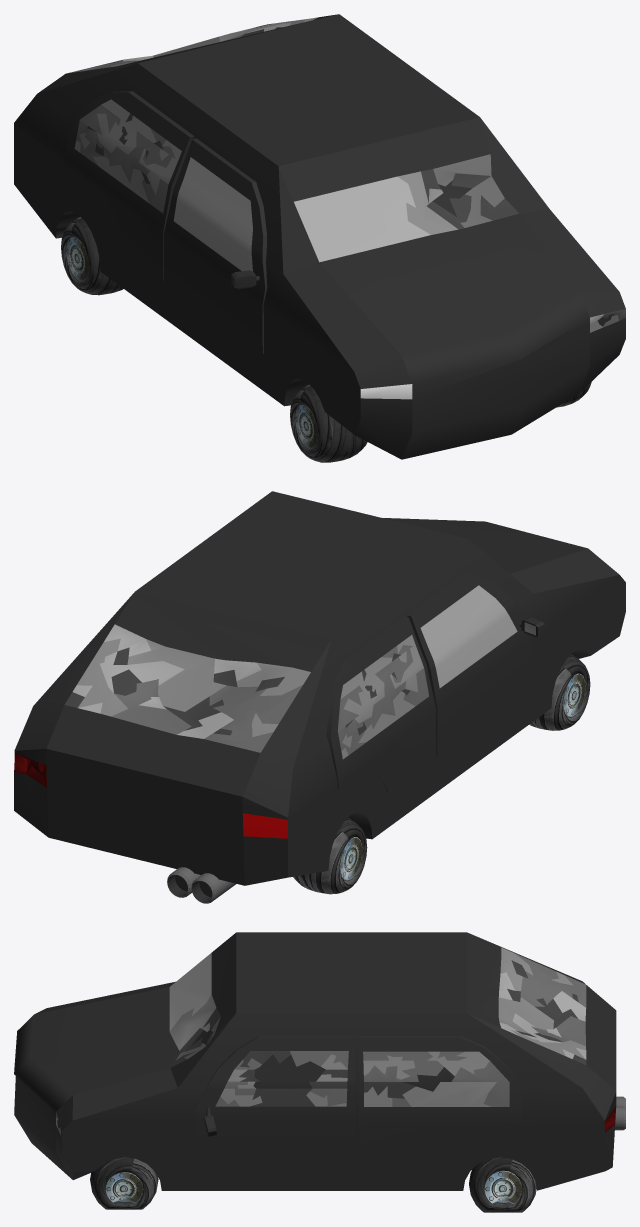
The model's file is smashed car.fbx.
3 views of the same model, one above another, from view 1: azimuth 30°, elevation 25°; view 2: azimuth 150°, elevation 25°; view 3: azimuth 270°, elevation 25° (orthographic). The views are drawn at different scales.
Parts seen in each view (by area): view 1: car, FrontWheelR, BackWheelR; view 2: car, BackWheelR, FrontWheelR, exhaust; view 3: car, FrontWheelL1, FrontWheelL.
Boxes of the visible parts, bbox=[...] form: car: bbox=[14, 14, 625, 459]; FrontWheelR: bbox=[290, 384, 367, 462]; BackWheelR: bbox=[61, 217, 123, 295]; car: bbox=[14, 491, 625, 885]; BackWheelR: bbox=[293, 818, 367, 894]; FrontWheelR: bbox=[529, 654, 590, 730]; exhaust: bbox=[167, 867, 236, 903]; car: bbox=[14, 932, 616, 1190]; FrontWheelL1: bbox=[469, 1157, 536, 1212]; FrontWheelL: bbox=[90, 1157, 158, 1209].
Size of the model in its own units: 13.43 by 9.36 by 26.51.
